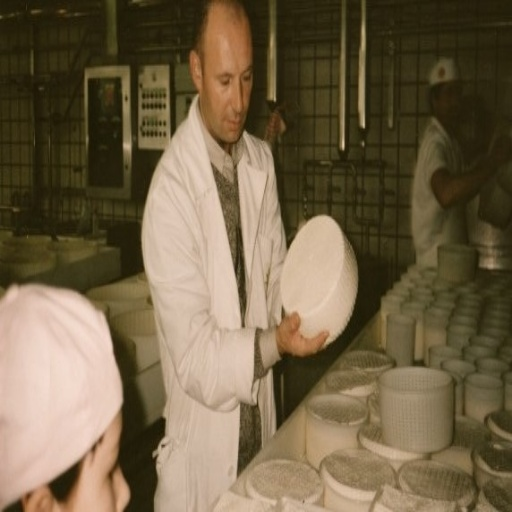hand: (276, 299, 307, 363), (491, 133, 511, 167)
